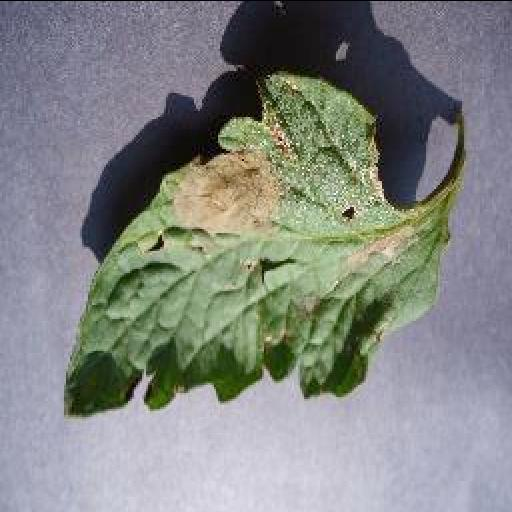disease_tomato: (54, 68, 452, 414)
